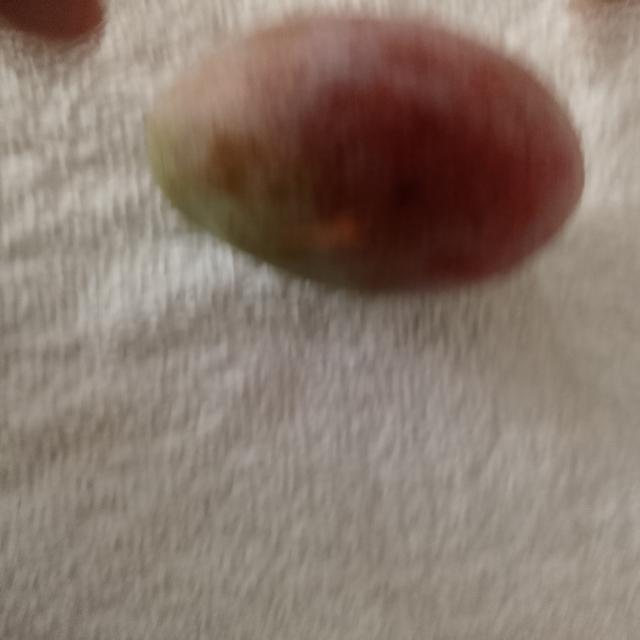mango: (146, 17, 583, 288)
